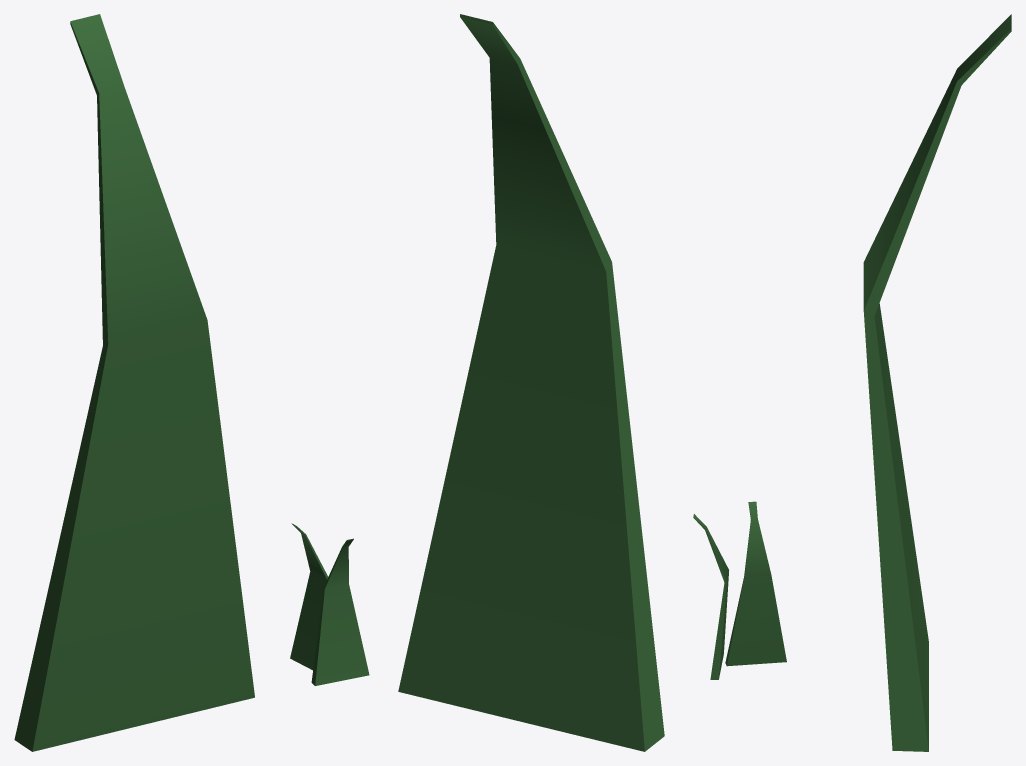
The model's file is Grass_Strands.fbx.
3 renders of one model, left to right at view 1: azimuth 30°, elevation 25°; view 2: azimuth 150°, elevation 25°; view 3: azimuth 270°, elevation 25°, orthographic. The views are drawn at different scales.
Visible parts, largest first — view 1: pPlane17, pPlane19, pPlane18; view 2: pPlane17; view 3: pPlane17, pPlane18, pPlane19.
Boxes of the visible parts, box(x1,y1,x2,y2) form: pPlane17: box(14, 14, 254, 751); pPlane19: box(311, 538, 369, 685); pPlane18: box(290, 523, 328, 670); pPlane17: box(398, 14, 664, 751); pPlane17: box(863, 14, 1011, 751); pPlane18: box(725, 501, 786, 666); pPlane19: box(693, 514, 729, 679).
Size of the model in its own units: 0.632 by 1.62 by 0.6923.
